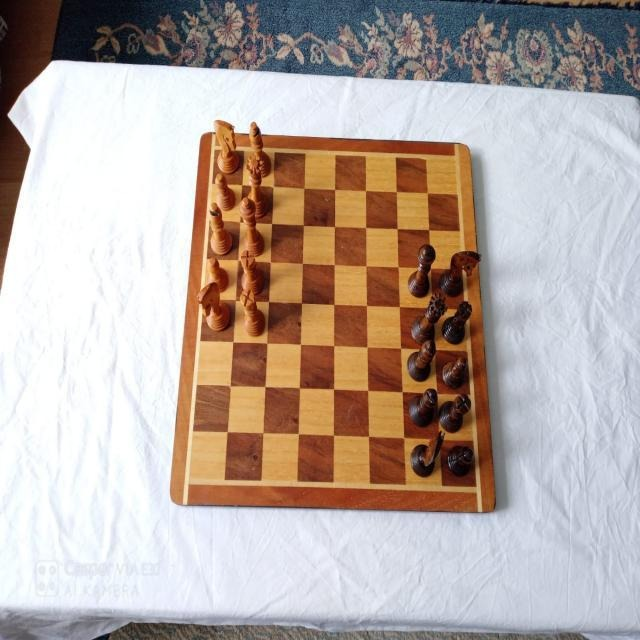black-bishop: (405, 339, 436, 382), (409, 388, 437, 426)
black-king: (408, 242, 436, 297)
black-knight: (439, 249, 481, 296), (410, 430, 445, 478)
black-pawn: (446, 444, 474, 476), (442, 355, 467, 389)
black-queen: (410, 292, 448, 344)
black-rook: (436, 392, 471, 432), (443, 300, 473, 344)
white-bishop: (207, 202, 232, 254), (248, 123, 271, 177)
white-king: (238, 196, 265, 257)
white-knight: (196, 281, 231, 330), (212, 118, 240, 173)
white-pawn: (214, 172, 235, 211), (207, 256, 230, 291)
white-queen: (244, 153, 268, 218)
white-rook: (240, 287, 265, 337), (240, 249, 263, 295)
